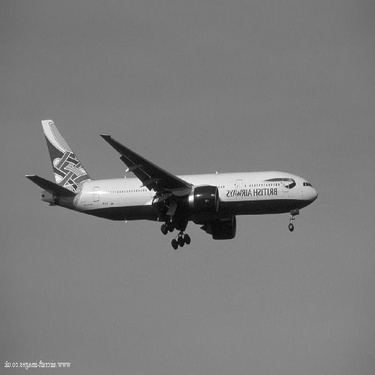airplane: (15, 101, 350, 255)
